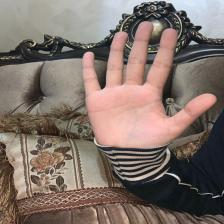five: (71, 20, 219, 160)
